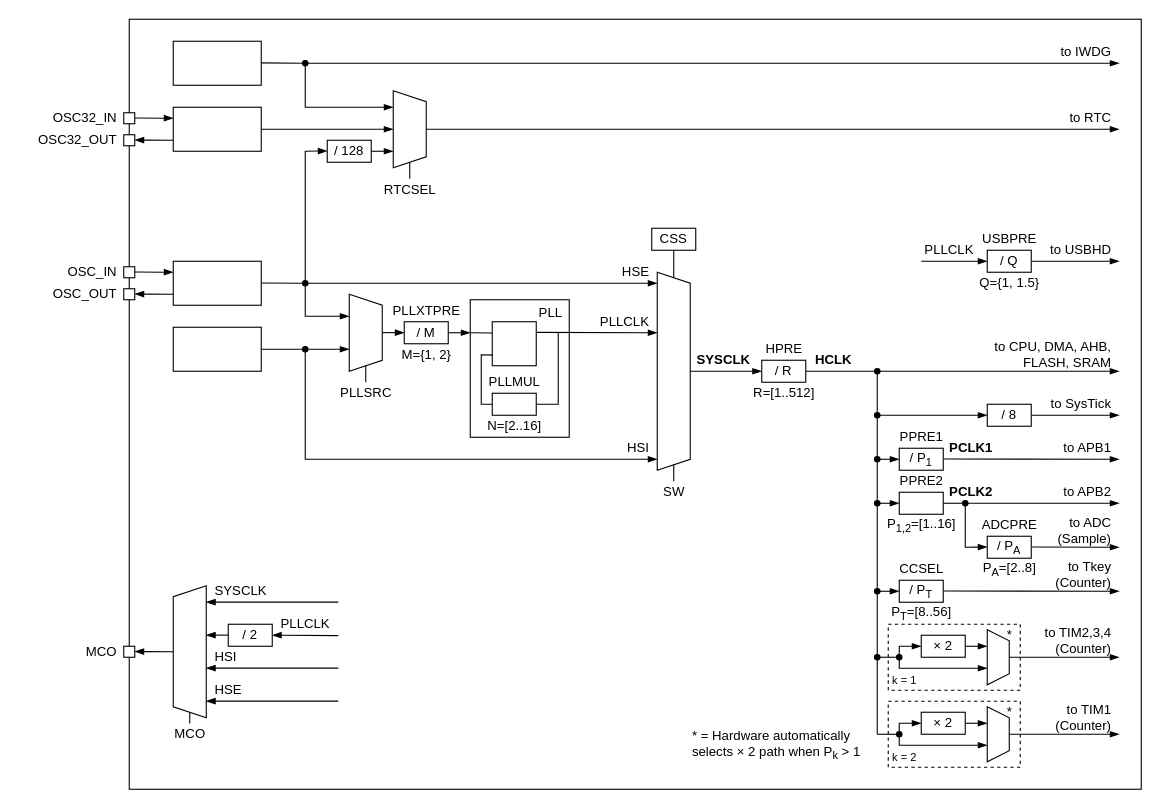
The diagram is 1161 pixels wide and 809 high, and some of its shapes have lost their labels. Each missing label, with the centre of its shape:
"/ P 2" belongs at point (920, 502).
"HSE OSC 4-16MHz" belongs at point (216, 282).
"HSI RC 8MHz" belongs at point (216, 348).
"LSE OSC 32.768kHz" belongs at point (216, 128).
"LSI RC 40kHz" belongs at point (216, 62).
"VCO" belongs at point (513, 343).
"× N" belongs at point (513, 403).
